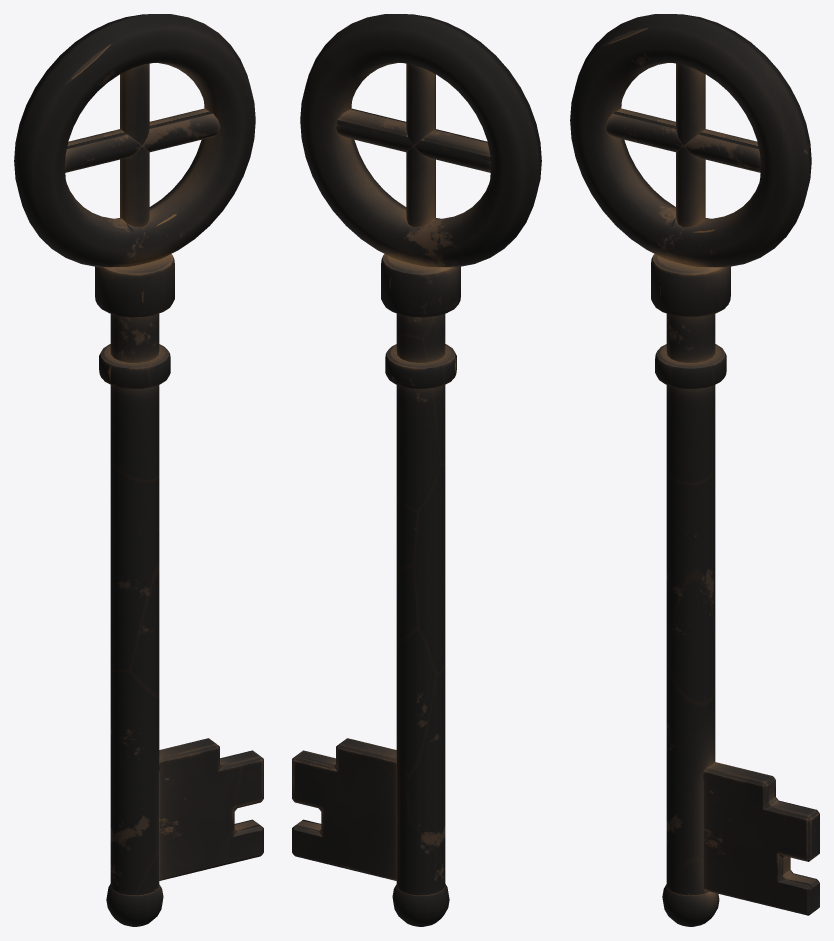
File: IronKey.fbx
The picture shows the model from 3 angles, left to right: view 1: azimuth 30°, elevation 25°; view 2: azimuth 150°, elevation 25°; view 3: azimuth 330°, elevation 25°; orthographic projection.
Visible parts, largest first — view 1: IronKey_Mesh; view 2: IronKey_Mesh; view 3: IronKey_Mesh.
Part boxes in pixels (x1,y1,x2,y2): IronKey_Mesh: (14,14,263,926); IronKey_Mesh: (292,14,541,926); IronKey_Mesh: (570,14,819,926).
Bounding box in the file's own units: 0.0662 × 0.2362 × 0.019.
